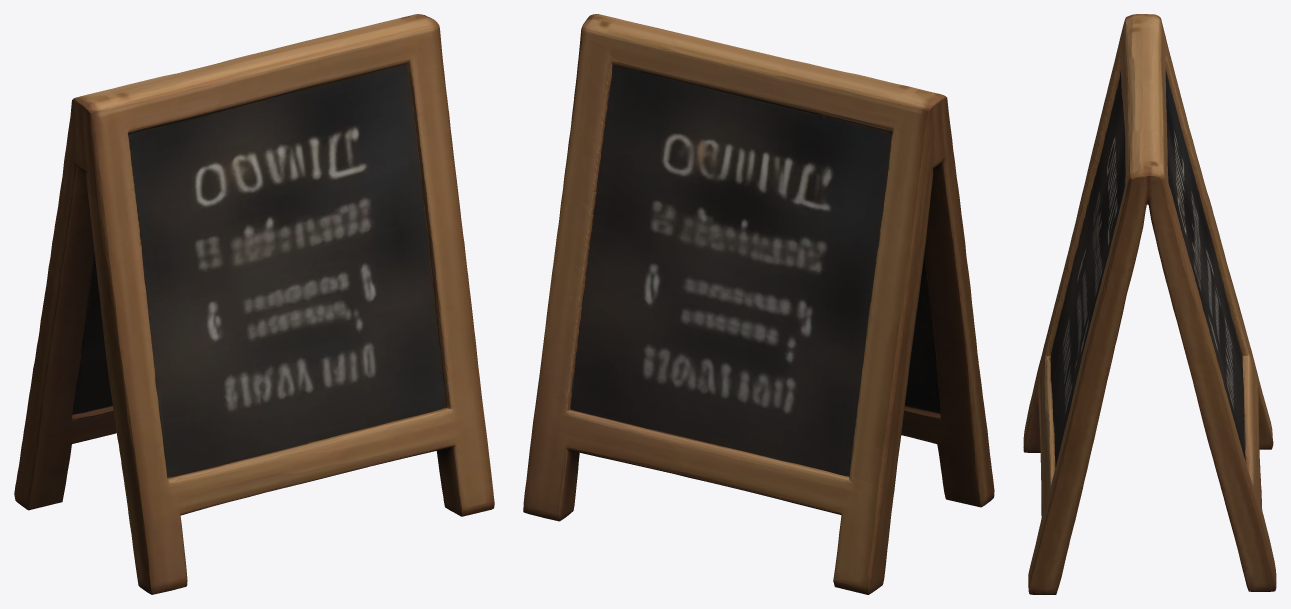
Rendered from item_sign_chalkboard.glb.
The picture shows the model from 3 angles, left to right: view 1: azimuth 30°, elevation 25°; view 2: azimuth 150°, elevation 25°; view 3: azimuth 270°, elevation 25°; orthographic projection. The views are drawn at different scales.
Visible parts, largest first — view 1: geometry_0; view 2: geometry_0; view 3: geometry_0.
Part boxes in pixels (left/top/right/bottom): geometry_0: left=14, top=14, right=494, bottom=594; geometry_0: left=523, top=14, right=994, bottom=594; geometry_0: left=1023, top=14, right=1276, bottom=594.
Size of the model in its own units: 0.8237 by 1 by 0.5439.
1 material, 1 textured.
